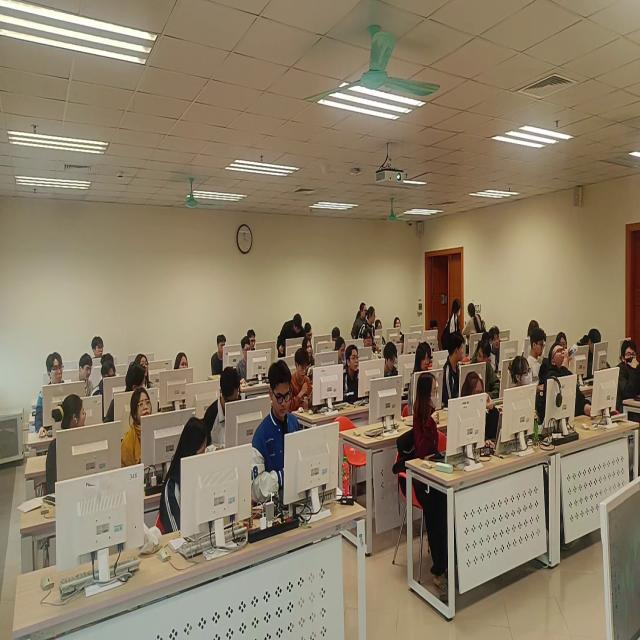raise_head: (544, 340, 594, 418), (510, 353, 545, 429), (120, 389, 154, 467), (33, 351, 66, 431), (617, 338, 640, 411), (343, 344, 363, 403), (491, 326, 504, 372), (137, 352, 151, 388), (393, 314, 406, 347), (175, 350, 190, 375), (303, 336, 314, 367), (92, 334, 106, 358), (375, 317, 386, 346), (364, 327, 376, 353)
stand: (464, 300, 489, 341), (443, 299, 462, 347), (351, 298, 368, 344), (359, 305, 379, 342)
using_computer: (252, 362, 303, 520), (161, 414, 210, 533), (461, 368, 504, 455), (205, 365, 242, 448), (408, 340, 432, 417), (289, 347, 314, 413), (276, 309, 304, 361), (578, 327, 605, 376), (528, 328, 548, 380), (95, 361, 120, 402), (238, 336, 256, 387), (211, 333, 229, 373), (383, 342, 399, 383), (333, 333, 347, 364), (429, 316, 441, 351), (527, 319, 541, 338), (248, 326, 258, 352), (305, 322, 317, 343), (331, 324, 342, 343)
